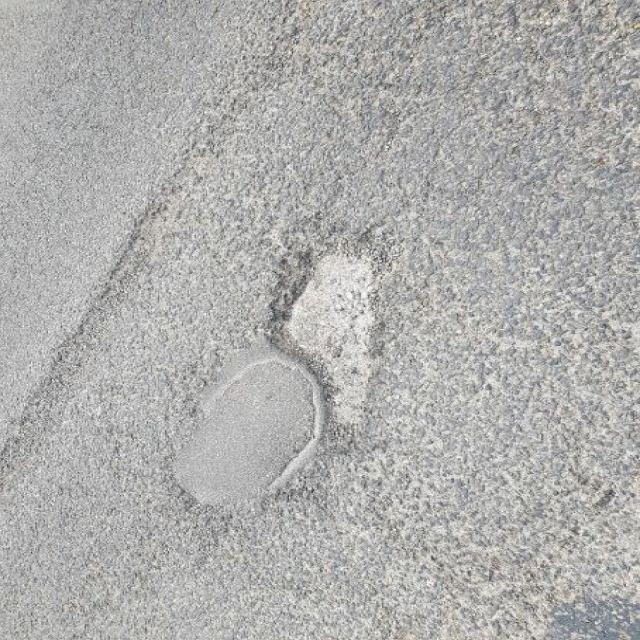pothole: (260, 231, 410, 438)
